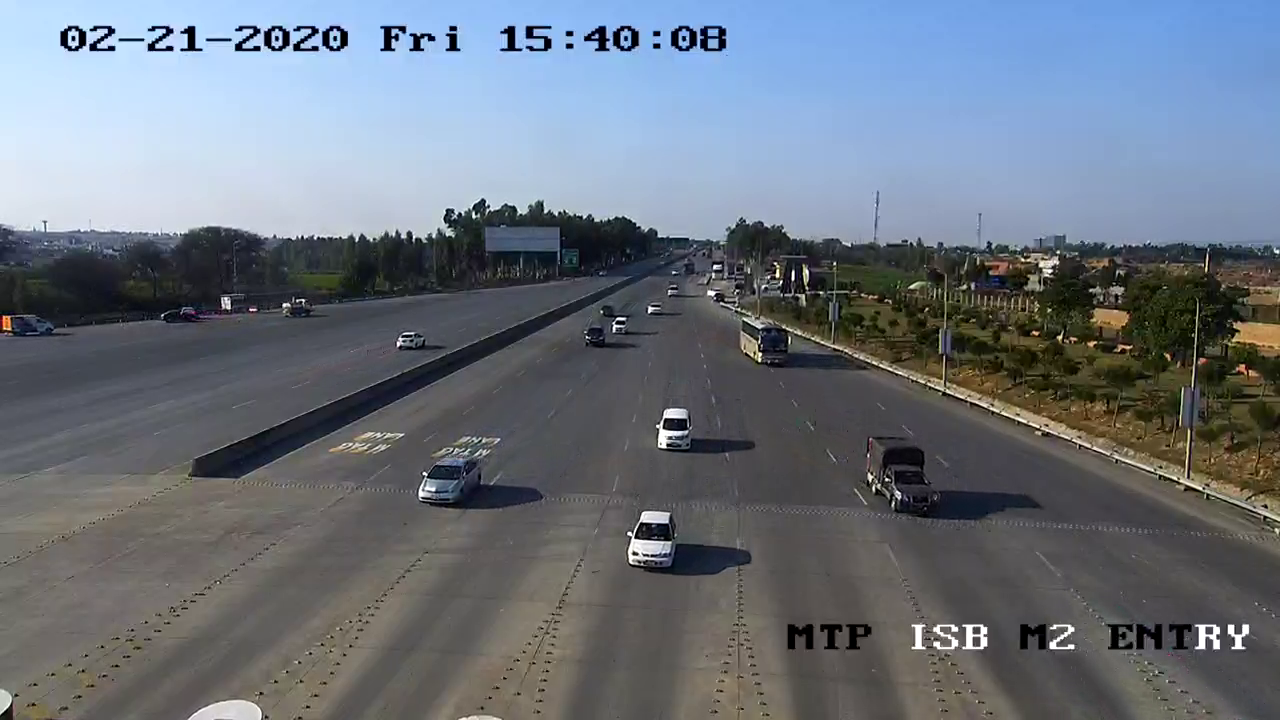f1: (855, 431, 951, 524), (619, 502, 685, 595), (409, 451, 491, 517), (642, 397, 705, 461)
f4: (728, 300, 805, 383)
